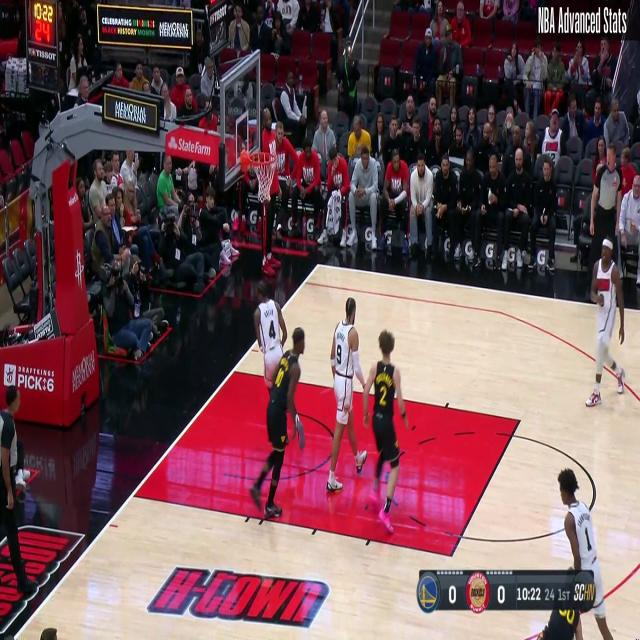judge: (0, 391, 39, 597), (588, 143, 621, 289)
player: (546, 461, 620, 635), (251, 323, 304, 524), (364, 329, 410, 536), (254, 280, 308, 452), (327, 297, 367, 494), (588, 244, 627, 395)
